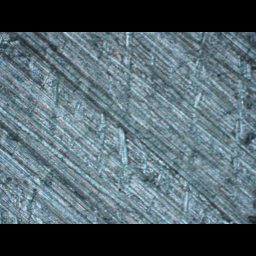d: (93, 109, 136, 177)
